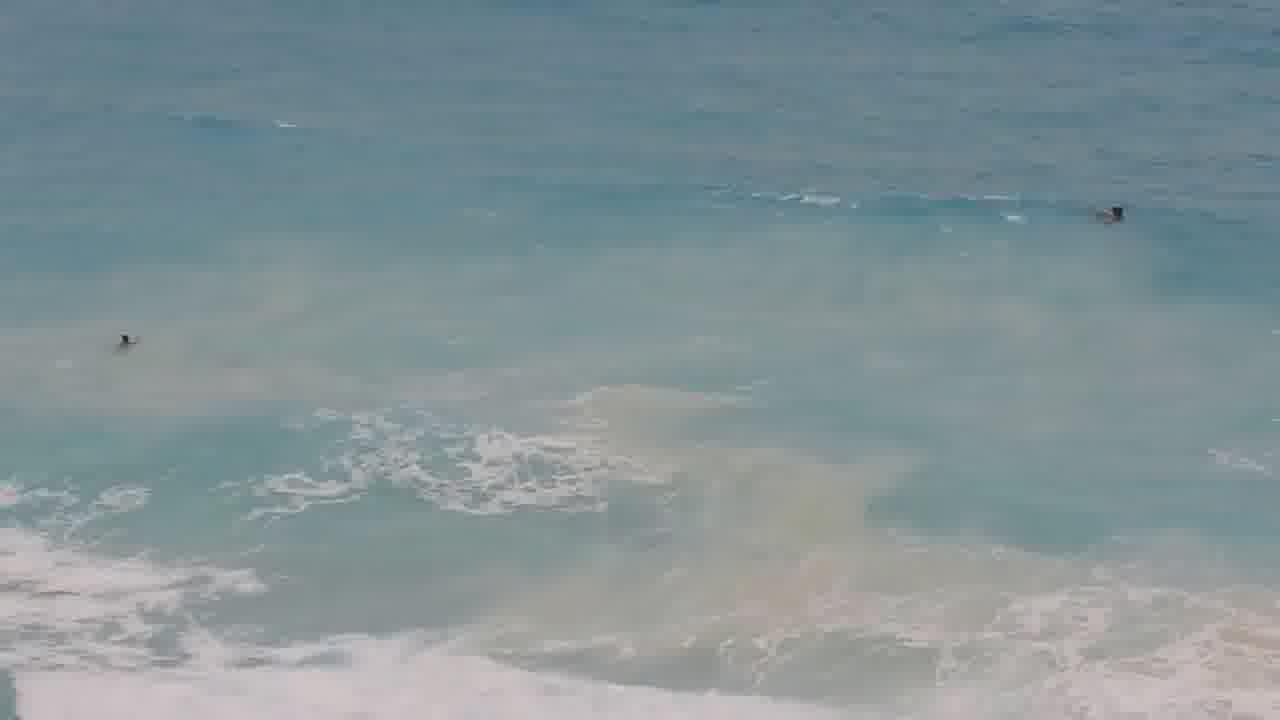human: (105, 315, 143, 365), (1092, 196, 1125, 242)
